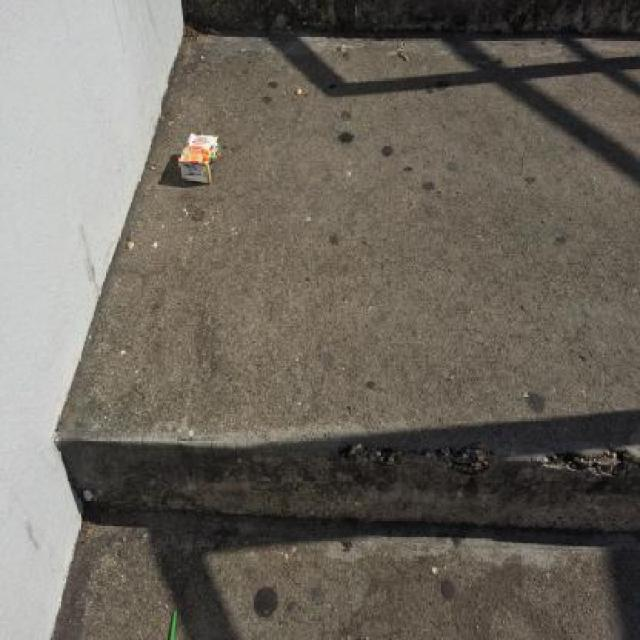cardboard: (178, 132, 222, 185)
plastic: (168, 608, 180, 638)
